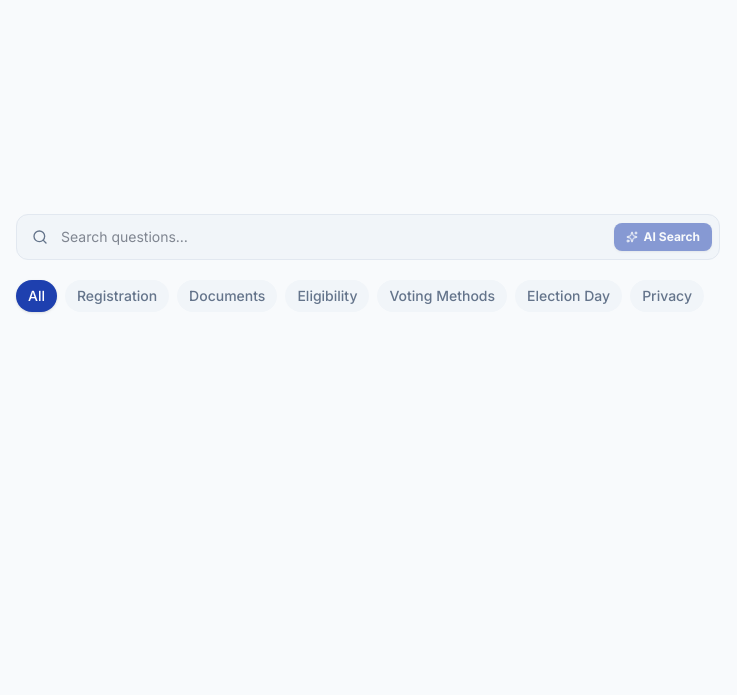
FAQClient › AI Search button enables when input has text
In the search field: (368, 237) x1=16 y1=214 x2=720 y2=260, type "vote"
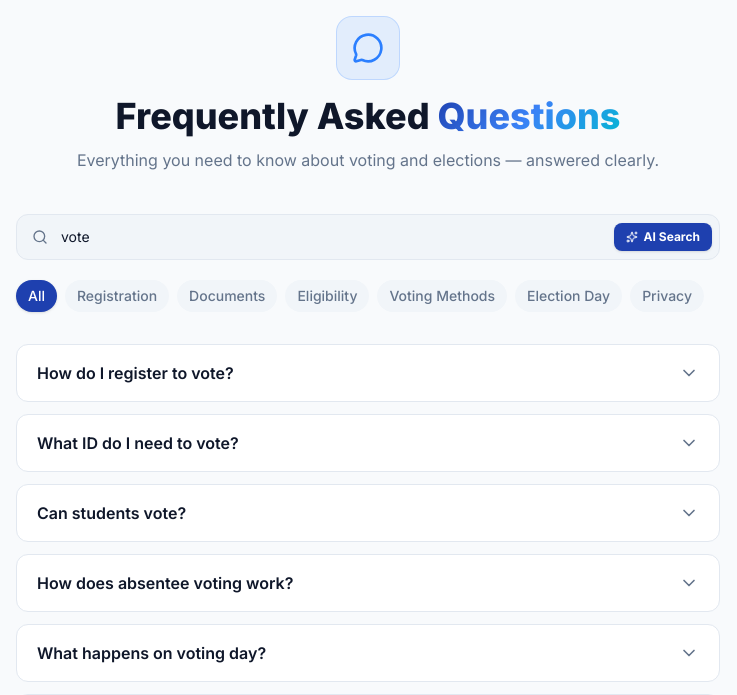
expect the button "AI Search" is enabled: met, box x1=614 y1=223 x2=712 y2=251
